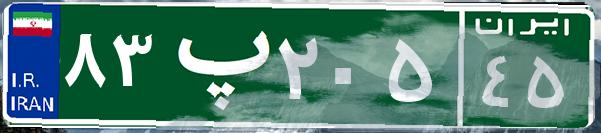0: (330, 28, 385, 110)
2: (273, 28, 330, 110)
3: (110, 28, 158, 105)
4: (475, 38, 525, 113)
5: (385, 28, 445, 110), (525, 38, 570, 115)
8: (57, 26, 110, 107)
پ: (158, 15, 273, 115)
